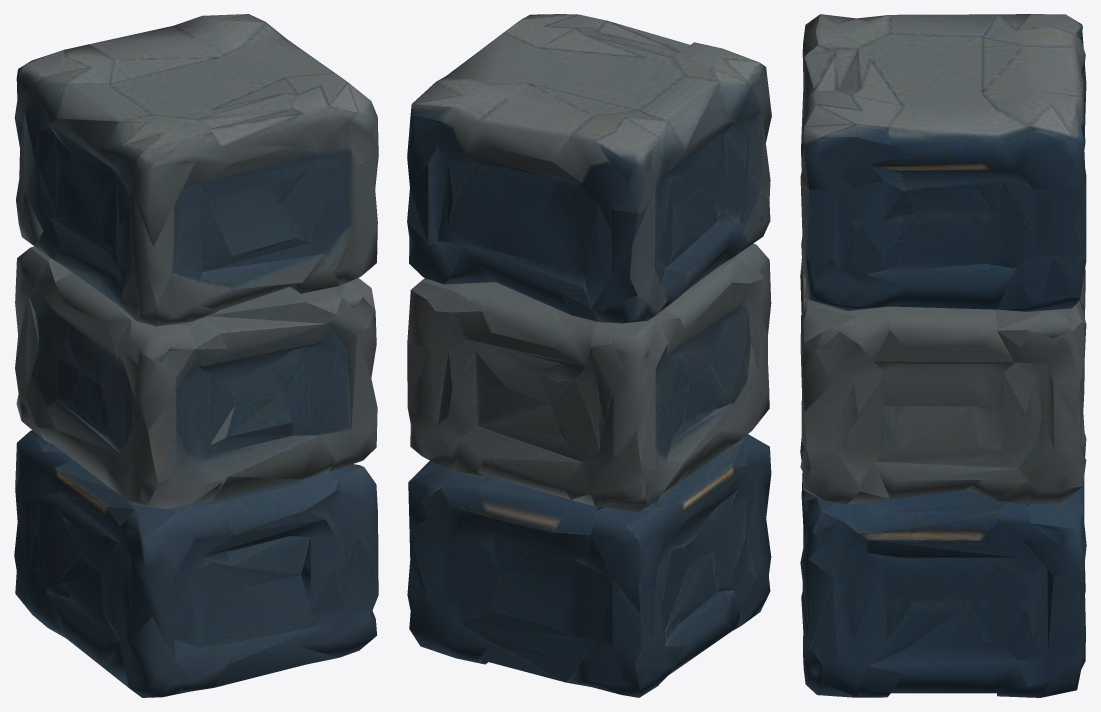
Rendered from deco_caisses.glb.
3 views of the same model, side by side, from view 1: azimuth 30°, elevation 25°; view 2: azimuth 150°, elevation 25°; view 3: azimuth 270°, elevation 25° (orthographic). The views are drawn at different scales.
Parts seen in each view (by area): view 1: mesh_node; view 2: mesh_node; view 3: mesh_node.
Part boxes in pixels (x1,y1,x2,y2): mesh_node: (14,14,378,697); mesh_node: (407,14,771,697); mesh_node: (800,14,1086,697).
Size of the model in its own units: 0.8487 by 1.9 by 0.8496.
1 material, 1 textured.
